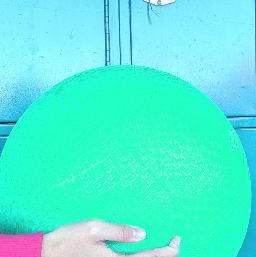algae: (0, 61, 256, 257)
